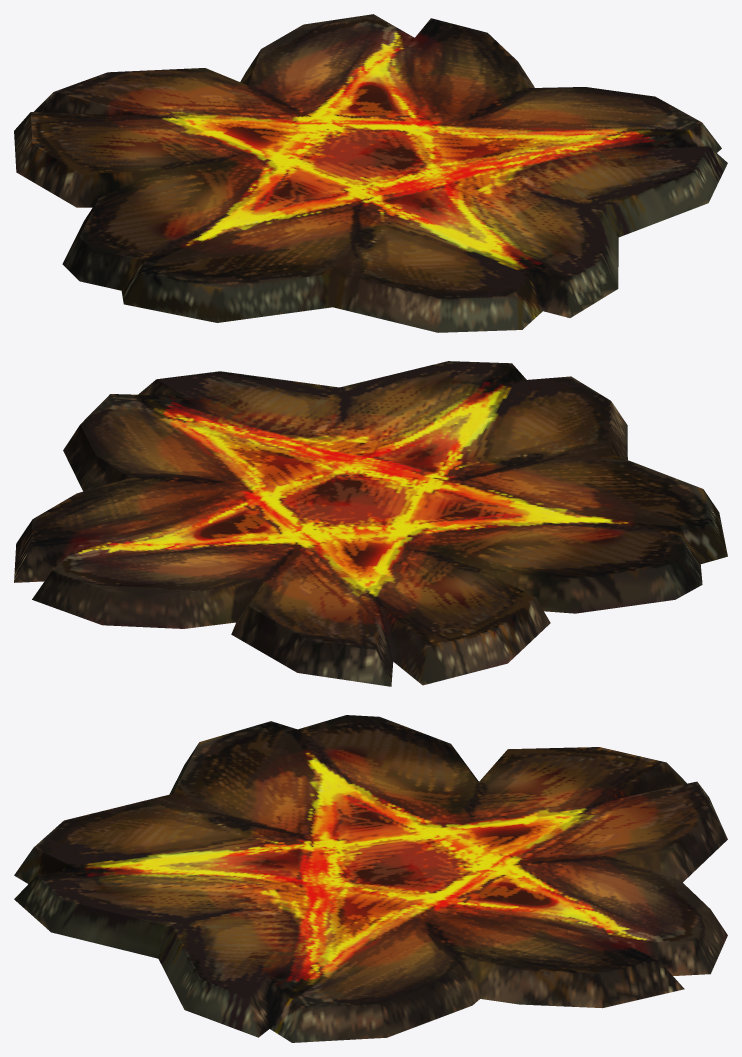
The model's file is SM_Star.fbx.
The picture shows the model from 3 angles, top to bottom: view 1: azimuth 30°, elevation 25°; view 2: azimuth 150°, elevation 25°; view 3: azimuth 270°, elevation 25°; orthographic projection. The views are drawn at different scales.
Visible parts, largest first — view 1: Star; view 2: Star; view 3: Star.
Boxes of the visible parts, x1,y1,x2,y2 form: Star: (14, 14, 727, 332); Star: (14, 361, 727, 686); Star: (14, 715, 727, 1042).
Size of the model in its own units: 254 by 10.34 by 249.
1 material, 1 textured.
